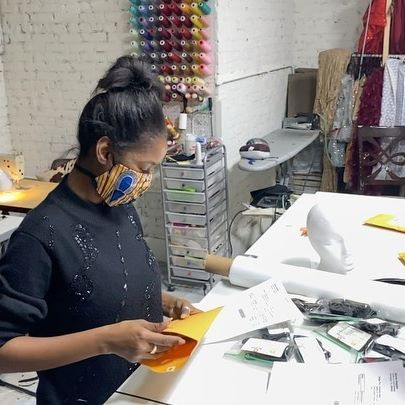homemade: (85, 164, 156, 209)
